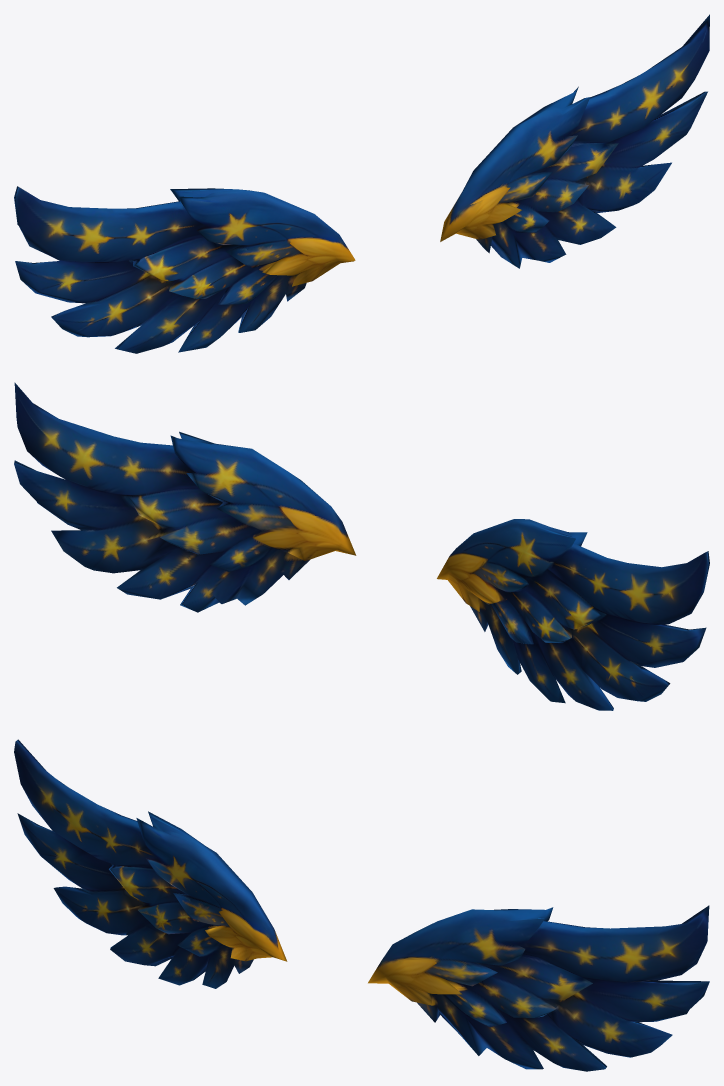
Rendered from StarOwlWear.fbx.
The picture shows the model from 3 angles, top to bottom: view 1: azimuth 30°, elevation 25°; view 2: azimuth 150°, elevation 25°; view 3: azimuth 330°, elevation 25°; orthographic projection.
Visible parts, largest first — view 1: WingR, WingL; view 2: WingL, WingR; view 3: WingL, WingR.
Part boxes in pixels (x1,y1,x2,y2): WingR: (14, 186, 355, 353); WingL: (440, 14, 709, 268); WingL: (14, 382, 356, 612); WingR: (437, 519, 709, 710); WingL: (368, 905, 709, 1071); WingR: (14, 739, 287, 988).
Size of the model in its own units: 1.98 by 0.5437 by 0.2275.
1 material, 1 textured.
